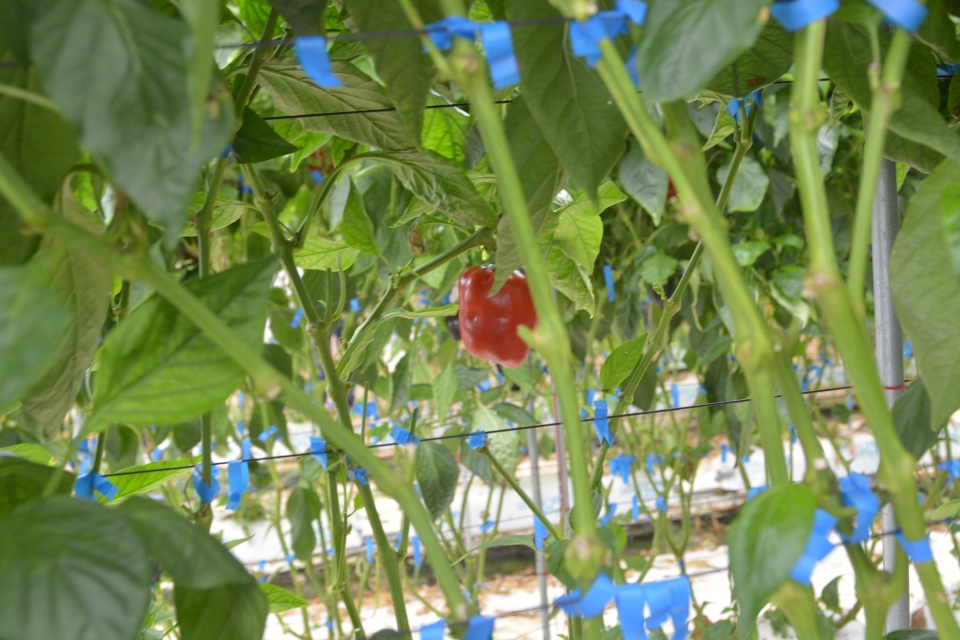fruit: (456, 256, 536, 367)
